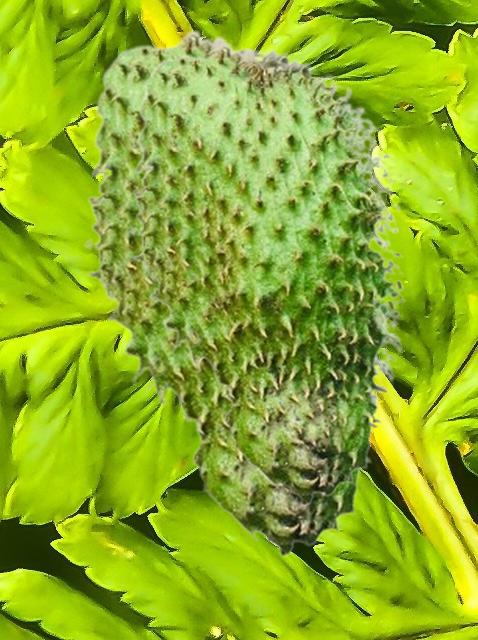guyabano: (83, 28, 400, 557), (128, 41, 407, 506)
